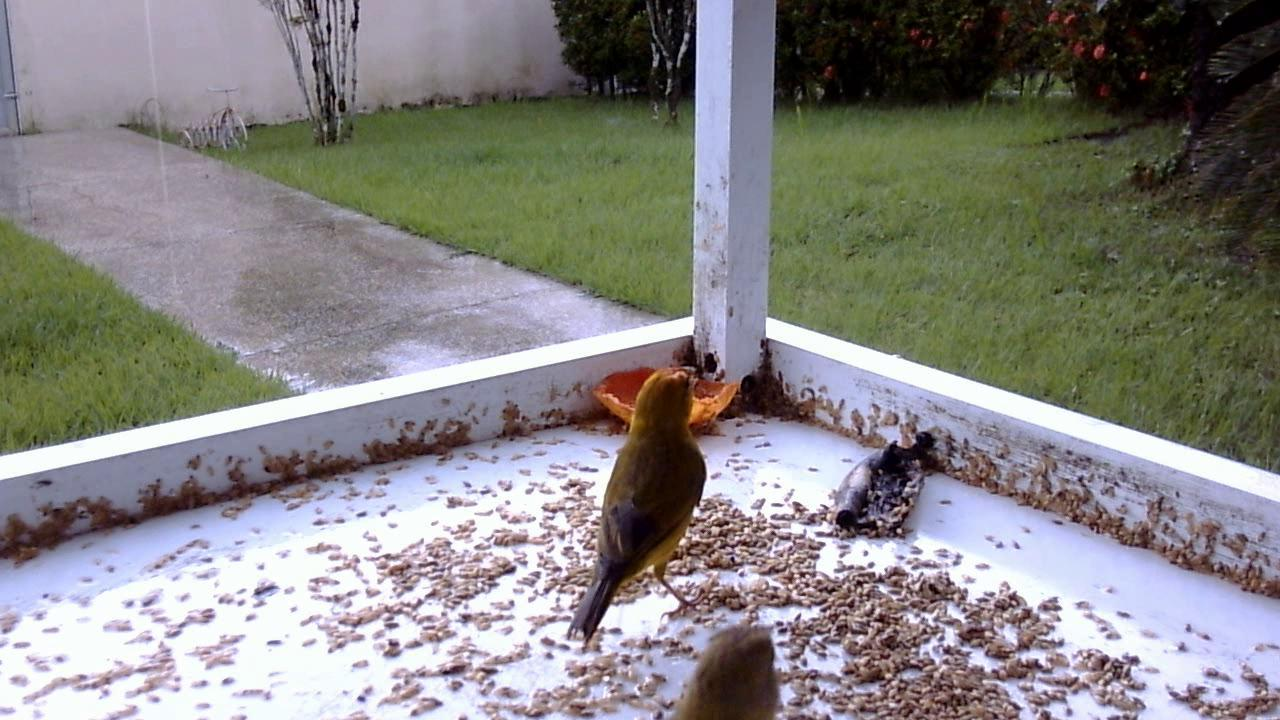canario_do_amazonas: (561, 368, 718, 642), (649, 617, 788, 720)
